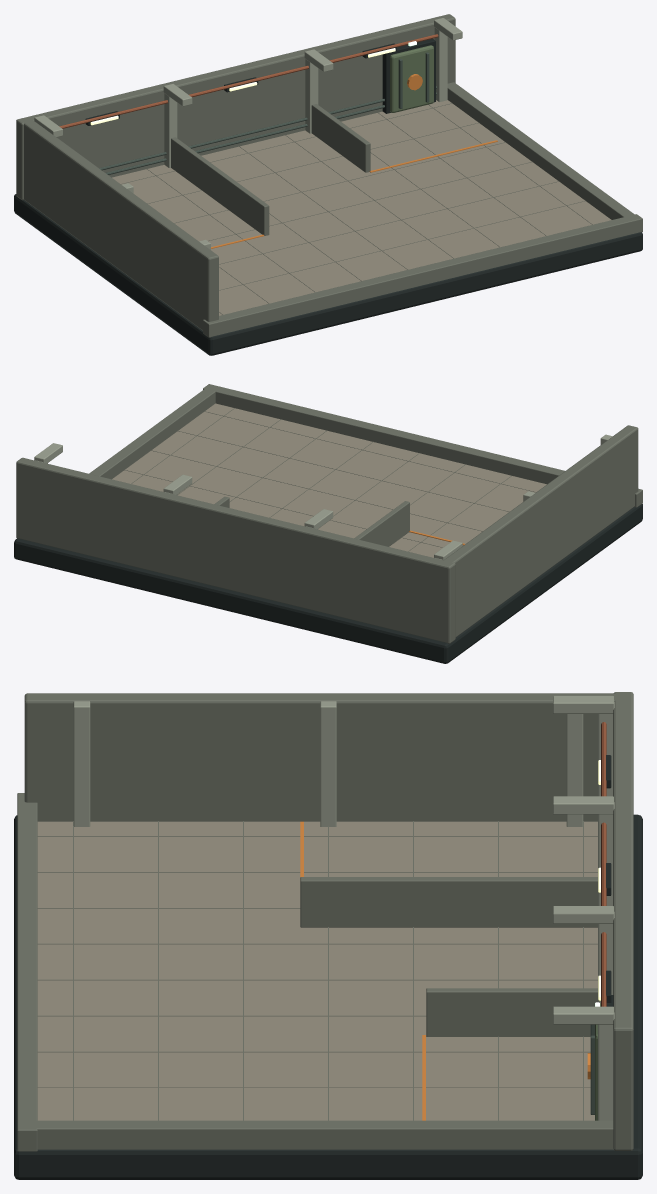
The model's file is shelter.glb.
The picture shows the model from 3 angles, top to bottom: view 1: azimuth 30°, elevation 25°; view 2: azimuth 150°, elevation 25°; view 3: azimuth 270°, elevation 25°; orthographic projection. The views are drawn at different scales.
Visible parts, largest first — view 1: floor, rear_wall.001, west_wall, foundation.001, front_cutaway, east_cutaway, dorm_partition, blast_door, utility_partition, overhead_pipe, service_pipe.001, door_frame (+4 smaller); view 2: rear_wall.001, floor, west_wall, foundation.001, front_cutaway, east_cutaway, dorm_partition; view 3: floor, west_wall, foundation.001, east_cutaway, dorm_partition, rear_wall.001, utility_partition, front_cutaway, side_pillar, side_pillar.001, side_pillar.002, rear_pillar.003 (+12 smaller).
Boxes of the visible parts, bbox=[...] form: floor: bbox=[112, 100, 611, 315]; rear_wall.001: bbox=[16, 14, 455, 200]; west_wall: bbox=[20, 117, 218, 330]; foundation.001: bbox=[14, 194, 642, 355]; front_cutaway: bbox=[203, 214, 642, 337]; east_cutaway: bbox=[447, 82, 637, 219]; dorm_partition: bbox=[171, 137, 269, 235]; blast_door: bbox=[390, 45, 433, 112]; utility_partition: bbox=[311, 104, 370, 172]; overhead_pipe: bbox=[59, 34, 438, 128]; service_pipe.001: bbox=[99, 86, 436, 170]; door_frame: bbox=[382, 38, 435, 113]; rear_wall.001: bbox=[16, 457, 455, 643]; floor: bbox=[112, 403, 546, 557]; west_wall: bbox=[444, 425, 638, 637]; foundation.001: bbox=[14, 503, 642, 663]; front_cutaway: bbox=[203, 384, 642, 507]; east_cutaway: bbox=[89, 386, 218, 479]; dorm_partition: bbox=[354, 501, 409, 546]; floor: bbox=[37, 821, 597, 1120]; west_wall: bbox=[24, 693, 629, 821]; foundation.001: bbox=[14, 814, 642, 1179]; east_cutaway: bbox=[25, 1120, 613, 1149]; dorm_partition: bbox=[300, 877, 597, 927]; rear_wall.001: bbox=[613, 692, 633, 1150]; utility_partition: bbox=[426, 988, 597, 1036]; front_cutaway: bbox=[17, 793, 37, 1151]; side_pillar: bbox=[73, 701, 90, 826]; side_pillar.001: bbox=[320, 701, 336, 826]; side_pillar.002: bbox=[566, 714, 583, 826]; rear_pillar.003: bbox=[598, 1012, 614, 1120].
Bounding box in the file's own units: 18.8 × 4.12 × 14.8.
